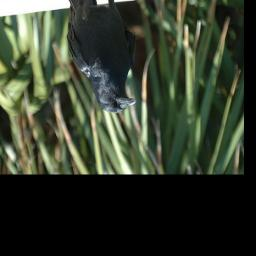Crow: (61, 0, 136, 114)
